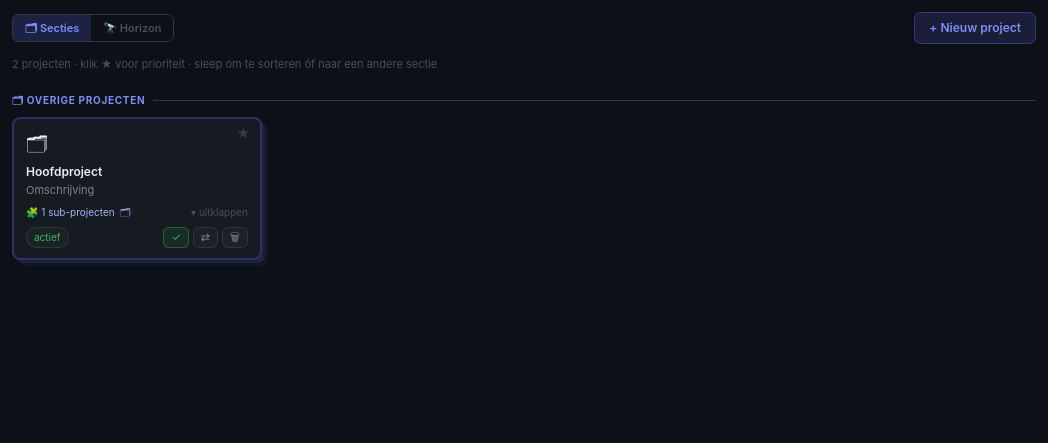
Test: ProjectsTab — horizon-weergave › een sub-project met een eigen horizon valt uit elkaar van zijn hoofdproject, met een verwijzing ernaar
This screenshot has width=1048, height=443.
Click the button "🔭 Horizon" at (132, 28), box [91,15,174,41]
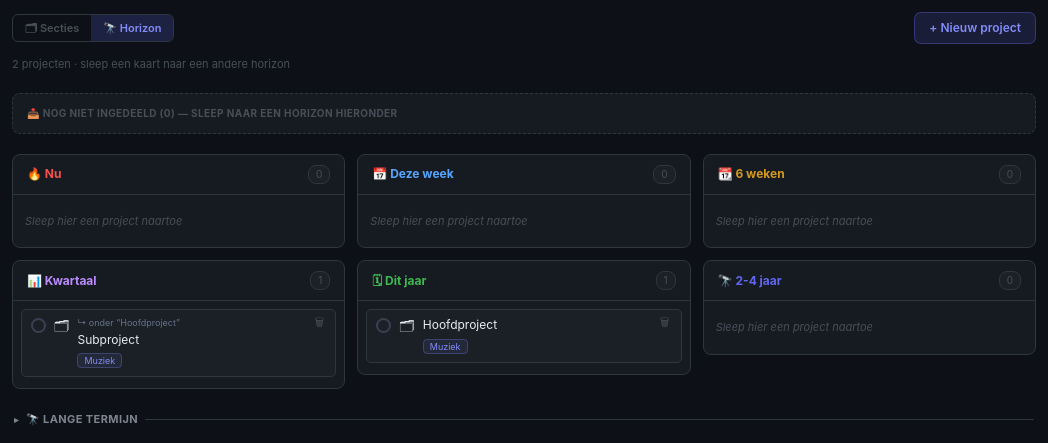
Check: the text "Subproject" is not shown
Check: the element showing "📊 Kwartaal 1 🗂 ↳ onder “Hoofdproject” Subproject Muziek 🗑" is shown, box [12,260,345,389]
Check: the element showing "🗓 Dit jaar 1 🗂 Hoofdproject Muziek 🗑" is shown, box [357,260,691,375]
